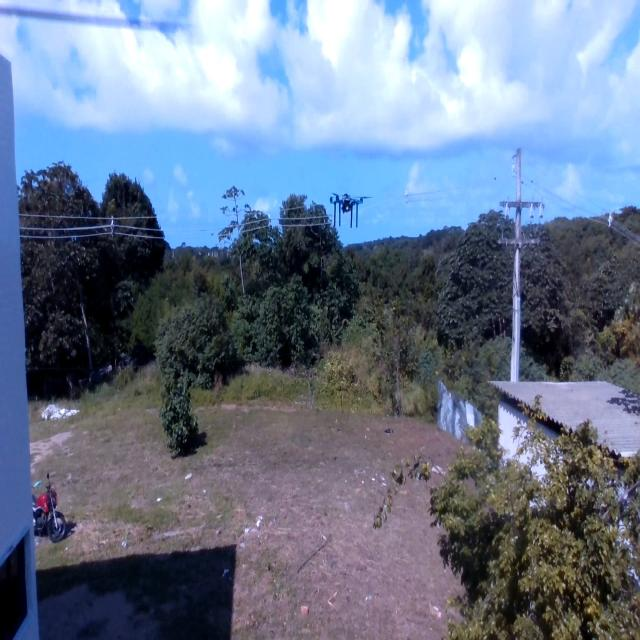-uav-: (326, 184, 376, 240)
